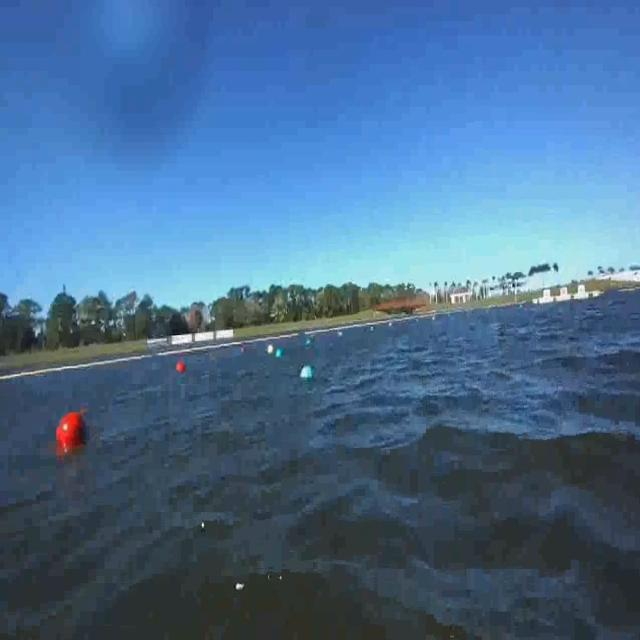green-buoy: (299, 362, 316, 382)
red-buoy: (48, 410, 92, 458)
